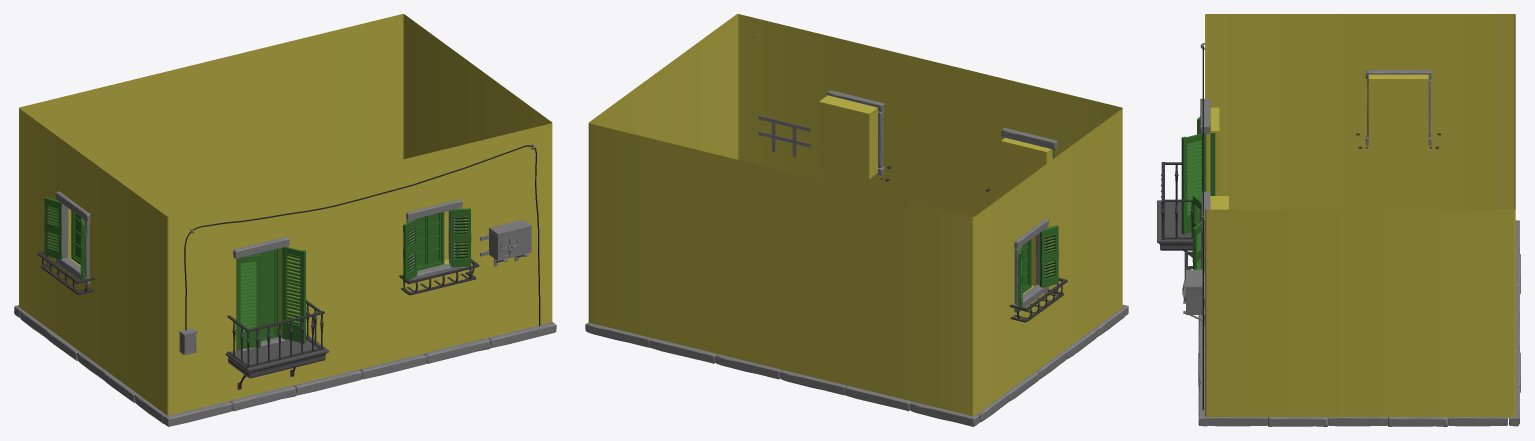
The model's file is SM_building_modular_2x1_01.fbx.
3 views of the same model, side by side, from view 1: azimuth 30°, elevation 25°; view 2: azimuth 150°, elevation 25°; view 3: azimuth 270°, elevation 25° (orthographic). The views are drawn at different scales.
Parts seen in each view (by area): view 1: Object32366; view 2: Object32366; view 3: Object32366.
Part boxes in pixels (box(x1,y1,x2,y2)): Object32366: box(14, 14, 556, 426); Object32366: box(585, 14, 1128, 426); Object32366: box(1157, 14, 1520, 426).
Bounding box in the file's own units: 438 × 215 × 327.
